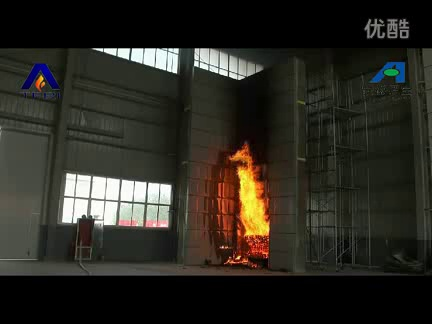fire: (229, 143, 271, 238)
